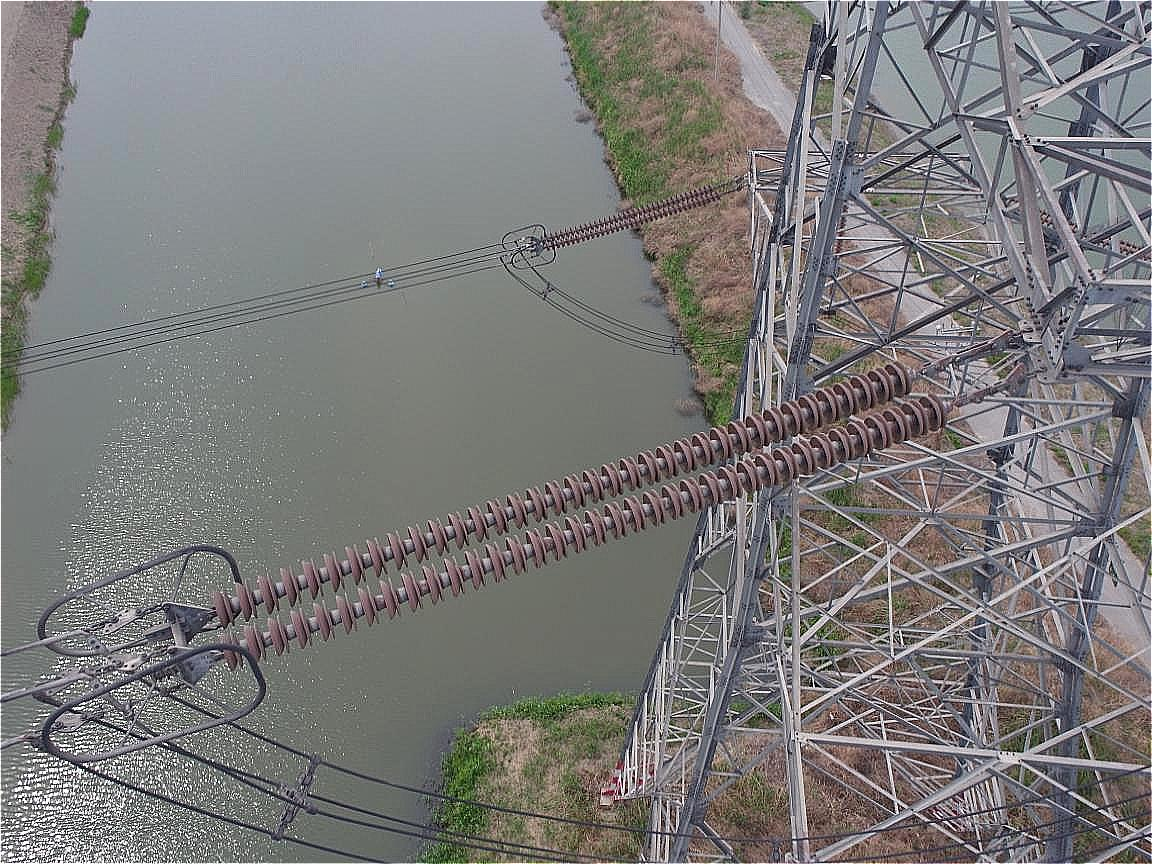insultor1: (543, 183, 726, 250)
insultor2: (213, 362, 945, 668)
